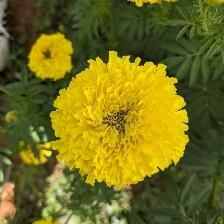marigold: (51, 50, 191, 192), (29, 33, 78, 80), (21, 136, 55, 167)
